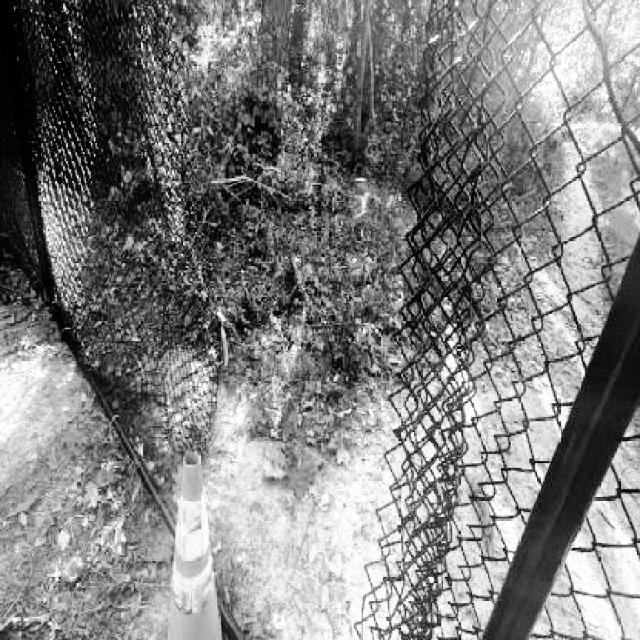anomaly-fence: (157, 1, 494, 640)
